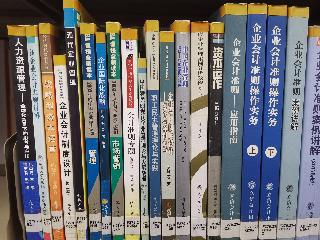book-spine: (274, 6, 311, 240), (6, 24, 43, 240), (258, 6, 288, 240), (239, 4, 268, 240), (62, 1, 89, 239), (219, 3, 246, 240), (24, 25, 53, 240), (37, 22, 65, 240), (295, 27, 319, 237), (79, 21, 102, 240), (102, 22, 125, 240), (52, 55, 77, 240), (120, 29, 141, 240), (206, 23, 225, 240), (173, 20, 191, 239), (190, 21, 208, 240), (94, 32, 112, 240), (146, 20, 162, 240), (159, 32, 176, 239), (137, 59, 149, 239)
